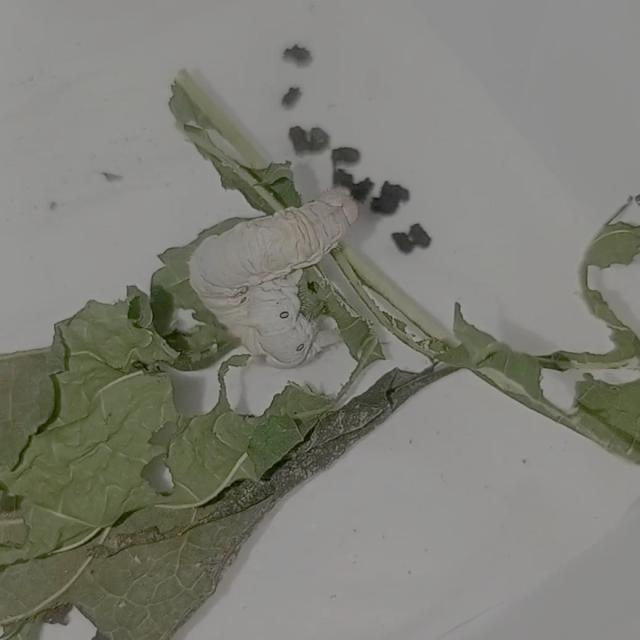Healthy: (177, 178, 368, 376)
